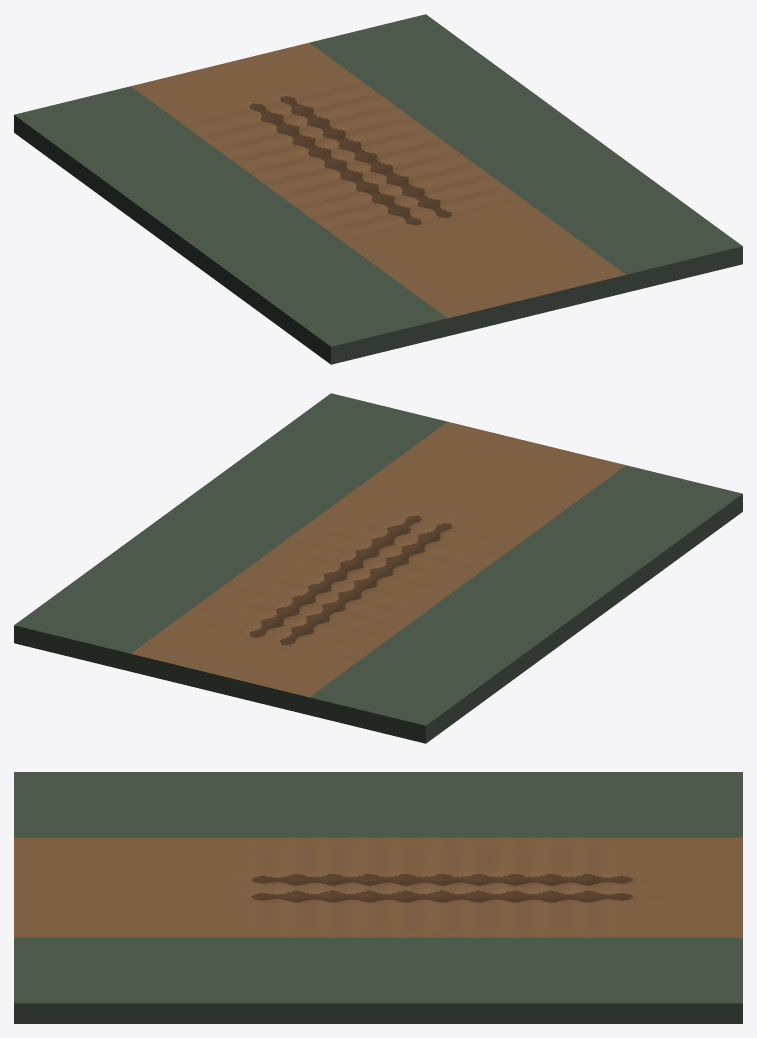
Rendered from rutted_track.dae.
3 renders of one model, top to bottom at view 1: azimuth 30°, elevation 25°; view 2: azimuth 150°, elevation 25°; view 3: azimuth 270°, elevation 25°, orthographic. The views are drawn at different scales.
Parts seen in each view (by area): view 1: terrain_node; view 2: terrain_node; view 3: terrain_node.
Part boxes in pixels (bbox=[...]): terrain_node: bbox=[14, 14, 742, 364]; terrain_node: bbox=[14, 393, 742, 743]; terrain_node: bbox=[14, 772, 742, 1023].
Bounding box in the file's own units: 6 × 8 × 0.256.
